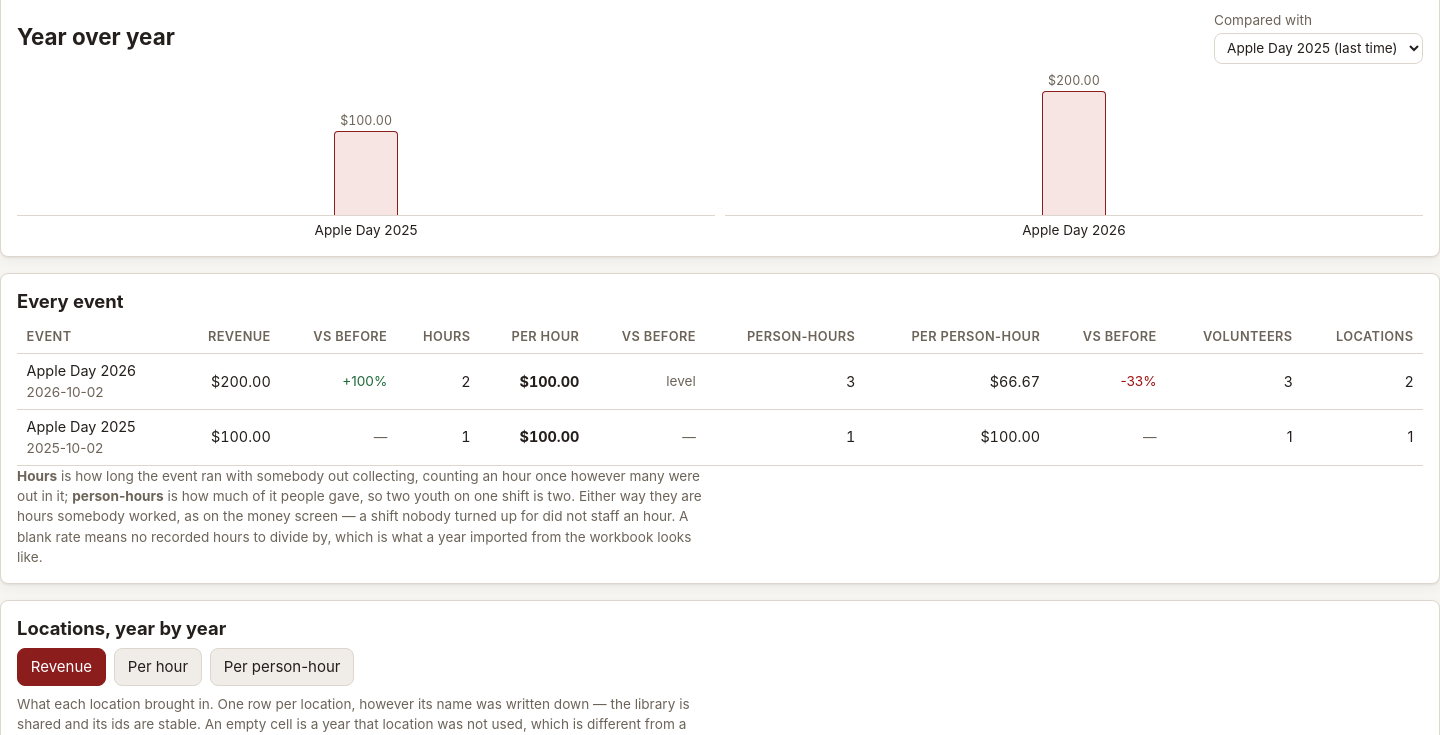
what the locations table is measuring › does not count a door twice because two youth were sent to it
This screenshot has width=1440, height=735.
Step 1. Click the button "Per hour" → (158, 667), box [114,648,202,686]
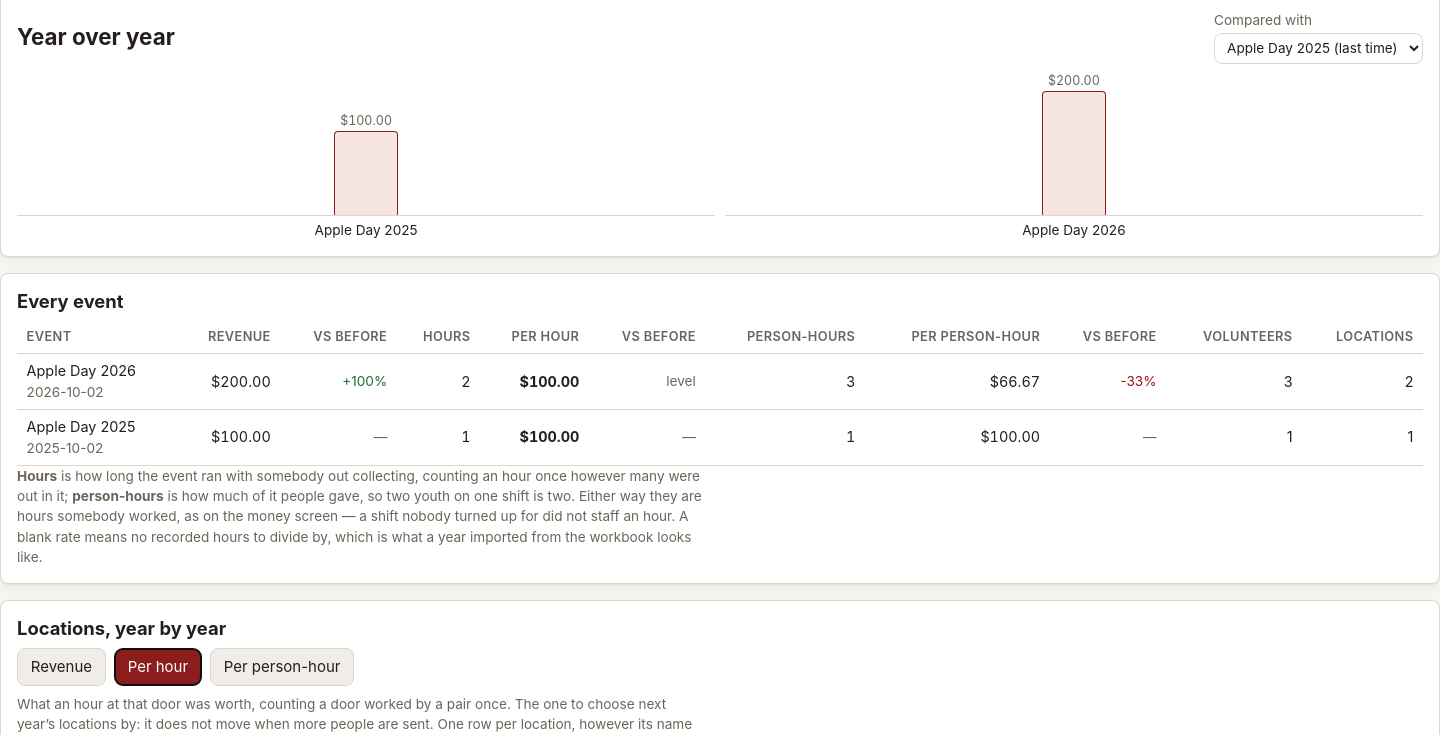
Step 2. Click the button "Per person-hour" → (282, 667), box [210,648,354,686]
(page scrolled)
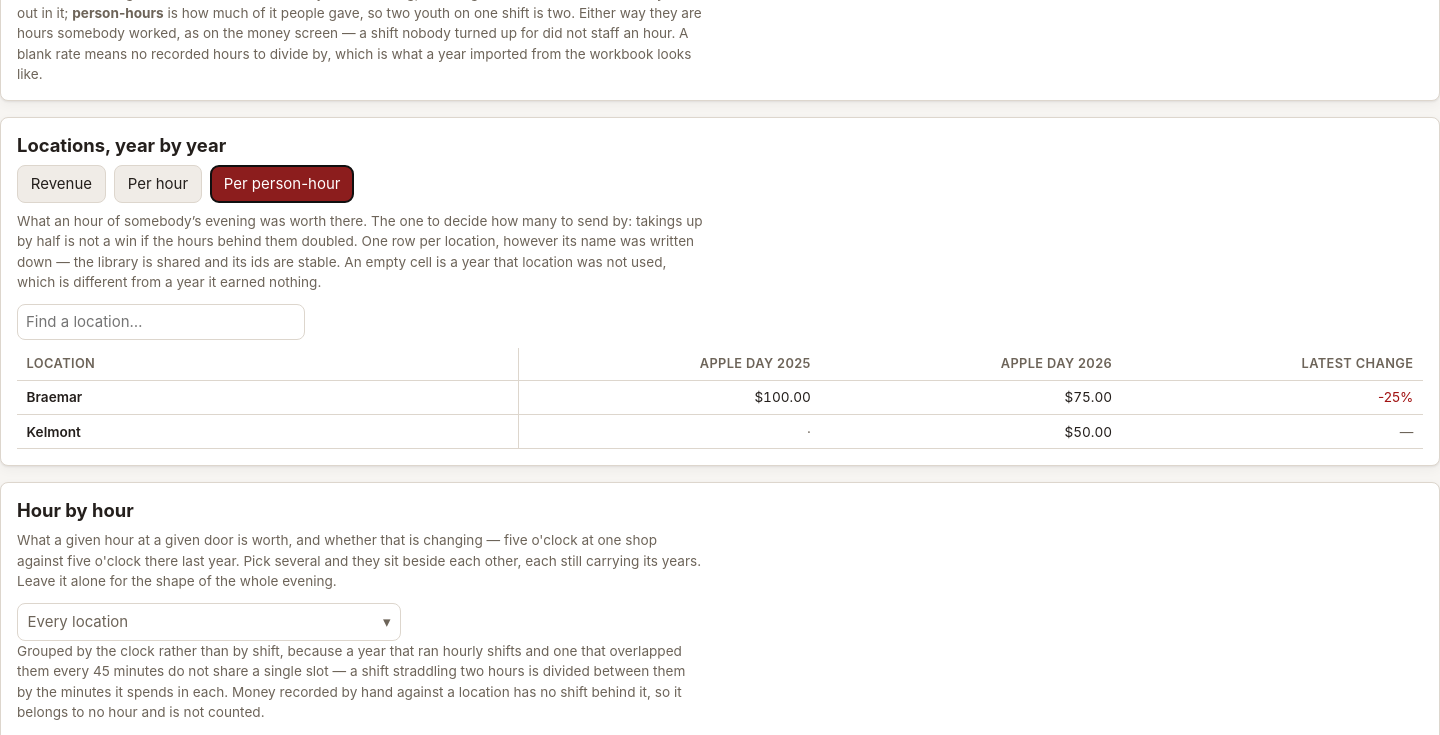
Result: the row "Braemar $100.00 $75.00 -25%" is shown at [17,381,1423,415]
